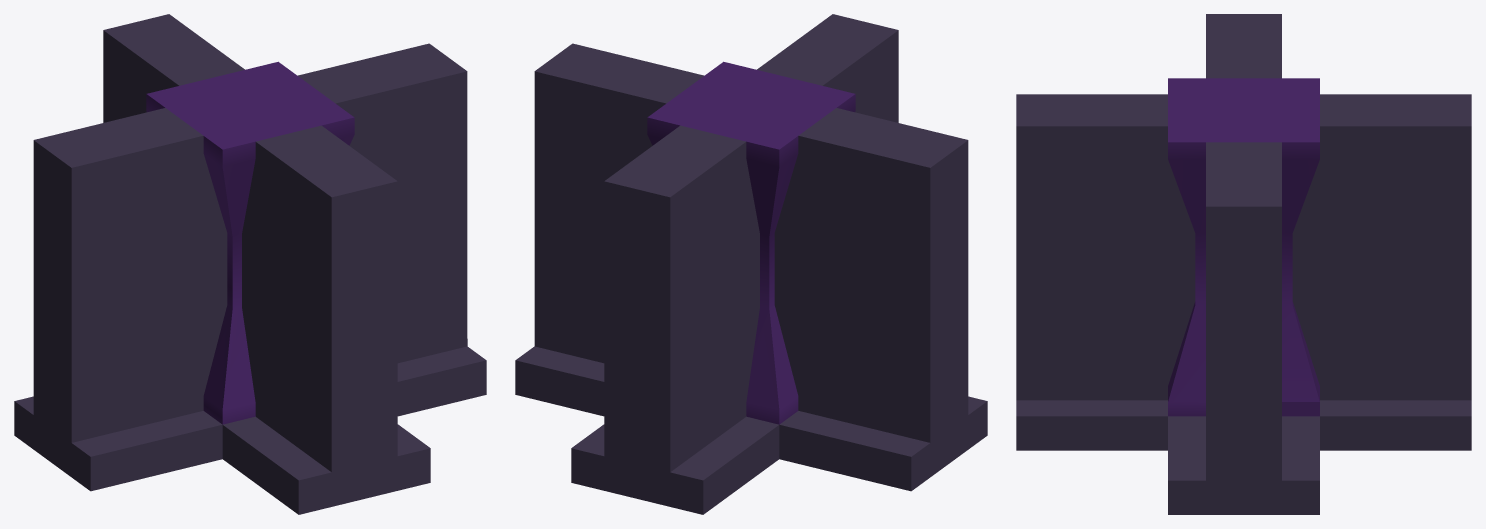
The model's file is XWall.fbx.
3 renders of one model, left to right at view 1: azimuth 30°, elevation 25°; view 2: azimuth 150°, elevation 25°; view 3: azimuth 270°, elevation 25°, orthographic.
Visible parts, largest first — view 1: CrossWall; view 2: CrossWall; view 3: CrossWall.
Boxes of the visible parts, box(x1,y1,x2,y2) form: CrossWall: box(14, 14, 486, 514); CrossWall: box(515, 14, 987, 514); CrossWall: box(1016, 14, 1471, 514).
Bounding box in the file's own units: 600 × 448 × 600.
